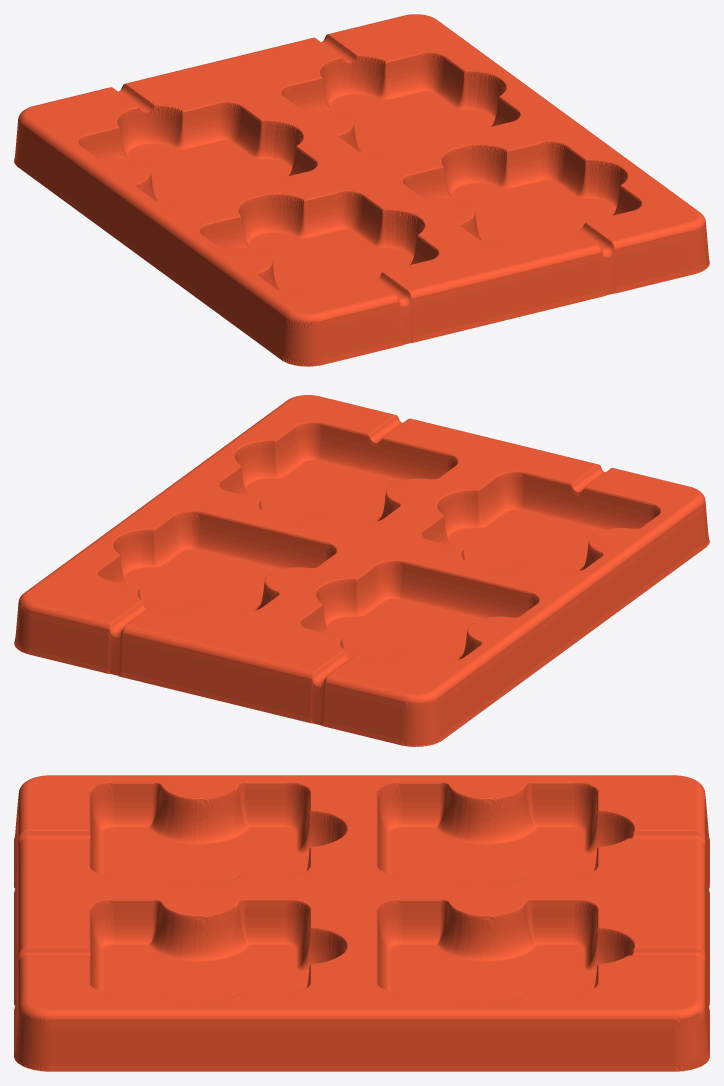
The model's file is mold.glb.
3 renders of one model, top to bottom at view 1: azimuth 30°, elevation 25°; view 2: azimuth 150°, elevation 25°; view 3: azimuth 270°, elevation 25°, orthographic. The views are drawn at different scales.
Visible parts, largest first — view 1: geometry_0; view 2: geometry_0; view 3: geometry_0.
Part boxes in pixels (x1,y1,x2,y2): geometry_0: [14, 14, 709, 366]; geometry_0: [14, 395, 709, 746]; geometry_0: [14, 775, 709, 1071].
Bounding box in the file's own units: 0.1446 × 0.0155 × 0.1735.
